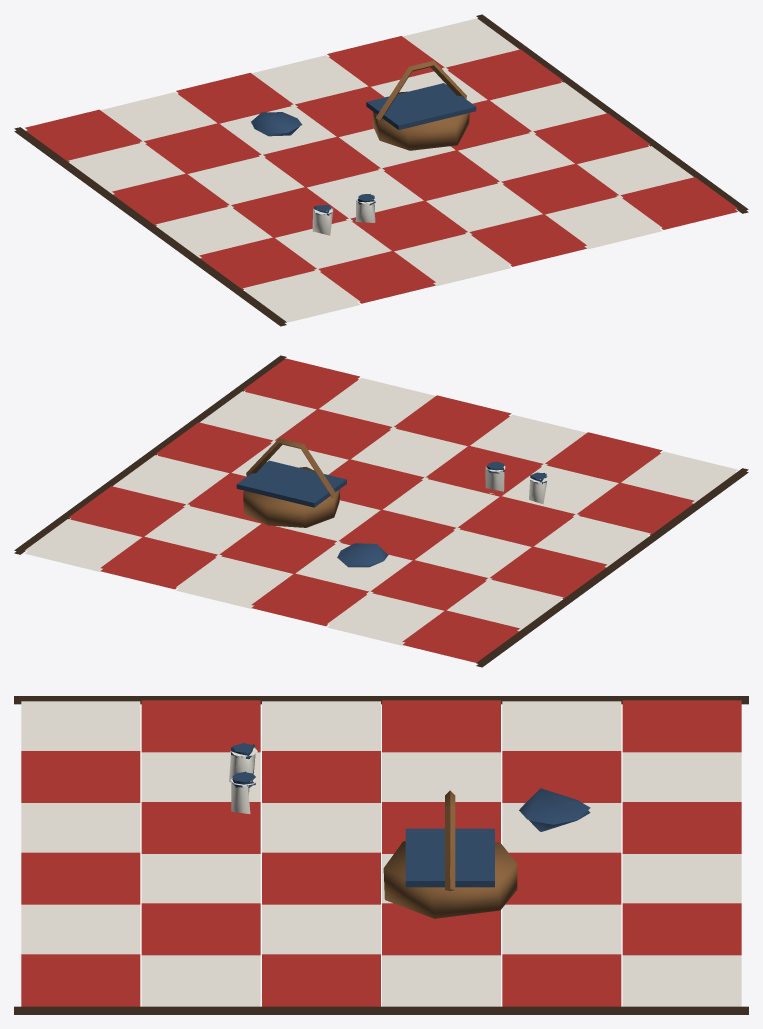
The model's file is lod_picnic_blanket.glb.
3 renders of one model, top to bottom at view 1: azimuth 30°, elevation 25°; view 2: azimuth 150°, elevation 25°; view 3: azimuth 270°, elevation 25°, orthographic. The views are drawn at different scales.
Parts seen in each view (by area): view 1: picnic_blanket; view 2: picnic_blanket; view 3: picnic_blanket.
Boxes of the visible parts, x1,y1,x2,y2 form: picnic_blanket: [14, 14, 748, 326]; picnic_blanket: [14, 355, 748, 667]; picnic_blanket: [14, 696, 748, 1014].
Size of the model in its own units: 2.17 by 0.3302 by 2.14.
